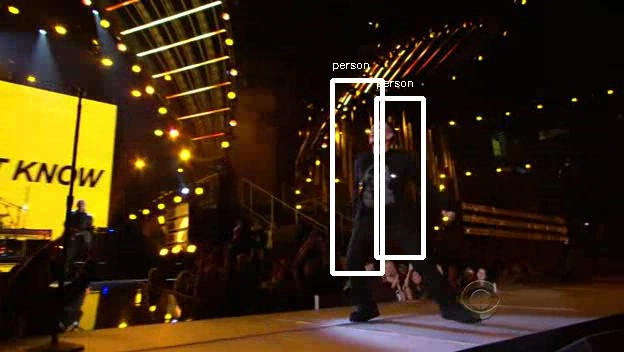person: (347, 120, 416, 236), (344, 120, 413, 236), (350, 120, 419, 236), (347, 117, 416, 233), (347, 123, 416, 239)
target_negative: (21, 62, 314, 337), (281, 83, 582, 304), (36, 170, 341, 256), (239, 210, 538, 283), (533, 288, 617, 339), (622, 75, 623, 182)
